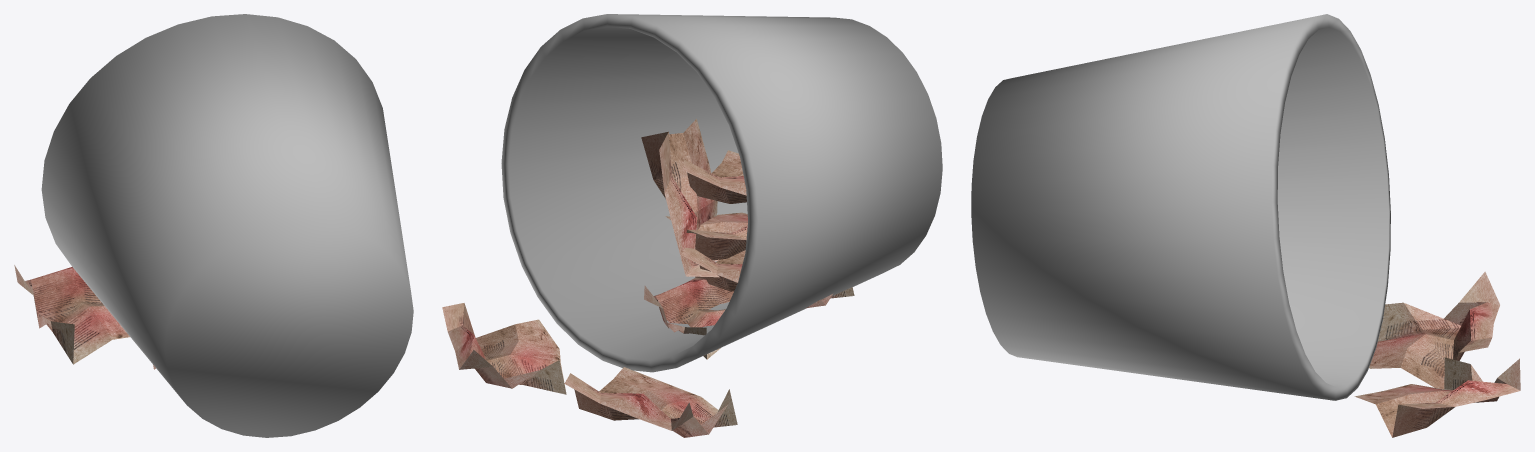
Rendered from trashcan.fbx.
The picture shows the model from 3 angles, left to right: view 1: azimuth 30°, elevation 25°; view 2: azimuth 150°, elevation 25°; view 3: azimuth 270°, elevation 25°; orthographic projection. The views are drawn at different scales.
Parts seen in each view (by area): view 1: Cylinder.020, Plane.007; view 2: Cylinder.020, Plane.009, Plane.007, Plane.006, Plane.008, Plane.003, Plane.004, Plane.005; view 3: Cylinder.020, Plane.007, Plane.009.
Part boxes in pixels (left/top/right/bottom): Cylinder.020: left=41, top=14, right=413, bottom=437; Plane.007: left=14, top=265, right=129, bottom=364; Cylinder.020: left=501, top=14, right=942, bottom=372; Plane.009: left=442, top=303, right=566, bottom=394; Plane.007: left=564, top=367, right=737, bottom=437; Plane.006: left=641, top=119, right=719, bottom=277; Plane.008: left=644, top=277, right=733, bottom=359; Plane.003: left=682, top=150, right=746, bottom=203; Plane.004: left=665, top=212, right=747, bottom=260; Plane.005: left=681, top=248, right=854, bottom=308; Cylinder.020: left=971, top=14, right=1390, bottom=400; Plane.007: left=1369, top=271, right=1499, bottom=389; Plane.009: left=1354, top=357, right=1520, bottom=437.
Size of the model in its own units: 0.6139 by 0.6201 by 0.8262.
